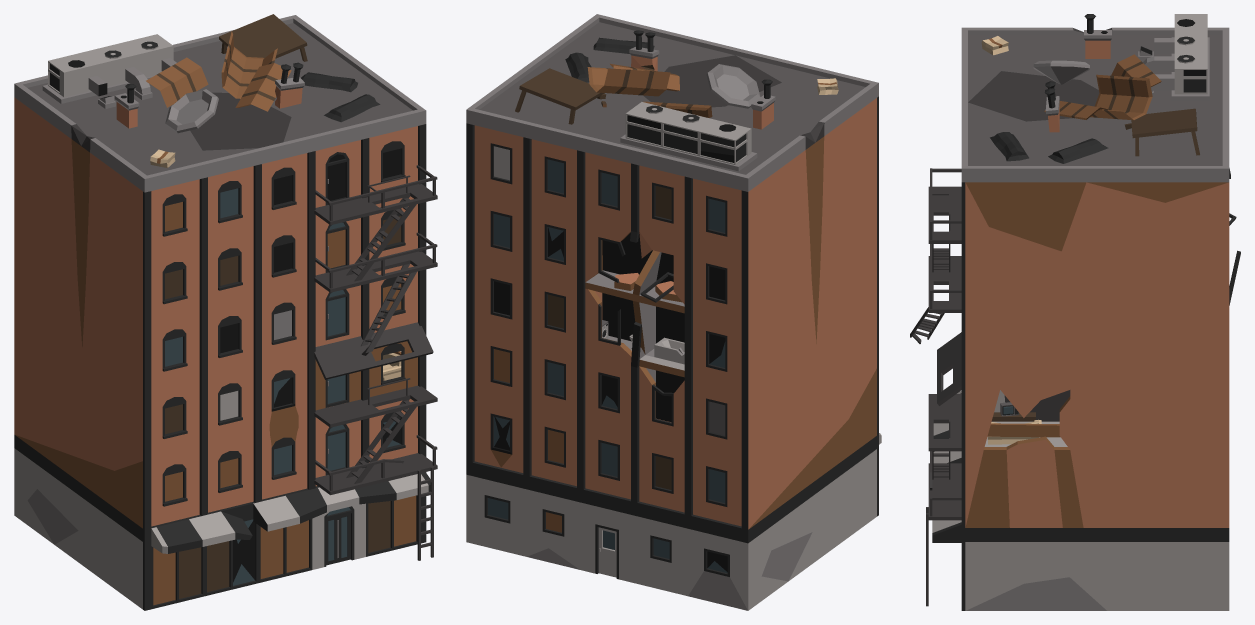
The model's file is apocalypse_building-block-5floor-front-apocalypse.fbx.
The picture shows the model from 3 angles, left to right: view 1: azimuth 30°, elevation 25°; view 2: azimuth 150°, elevation 25°; view 3: azimuth 270°, elevation 25°; orthographic projection. The views are drawn at different scales.
Visible parts, largest first — view 1: building_block_5floor_front_apocalypse_building_block_5floor (×2); view 2: building_block_5floor_front_apocalypse_building_block_5floor (×2); view 3: building_block_5floor_front_apocalypse_building_block_5floor (×2).
Boxes of the visible parts, <box> form: building_block_5floor_front_apocalypse_building_block_5floor (×2): <box>14,14,437,610</box>; building_block_5floor_front_apocalypse_building_block_5floor (×2): <box>466,14,881,610</box>; building_block_5floor_front_apocalypse_building_block_5floor (×2): <box>910,14,1240,610</box>.
Bounding box in the file's own units: 125 × 200 × 125.
